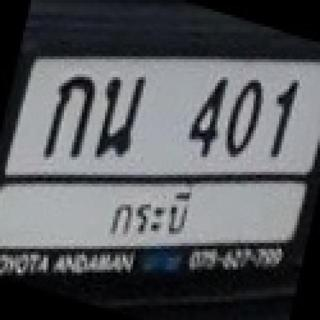A01: (42, 71, 100, 160)
A25: (97, 72, 151, 158)
N00: (226, 75, 267, 160)
N01: (268, 78, 305, 159)
N04: (181, 72, 230, 160)
P19: (109, 185, 195, 240)
